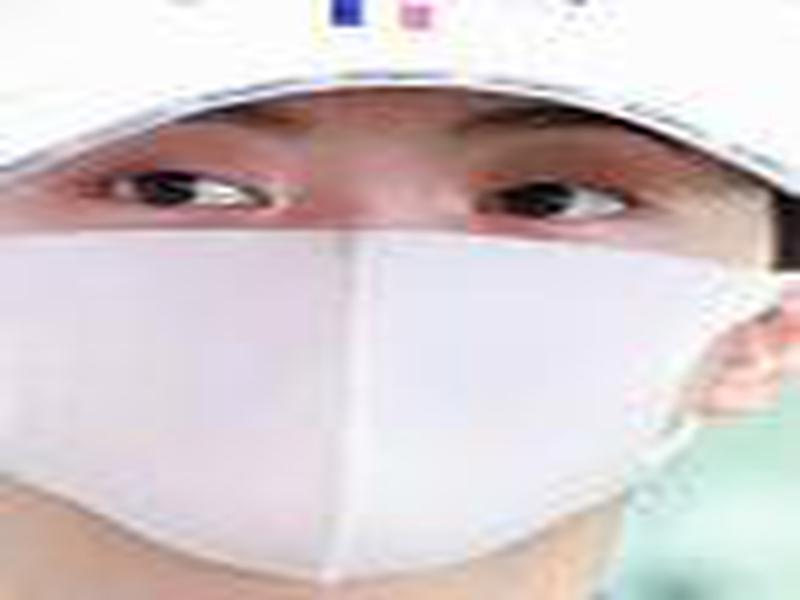with_mask: (4, 87, 800, 589)
